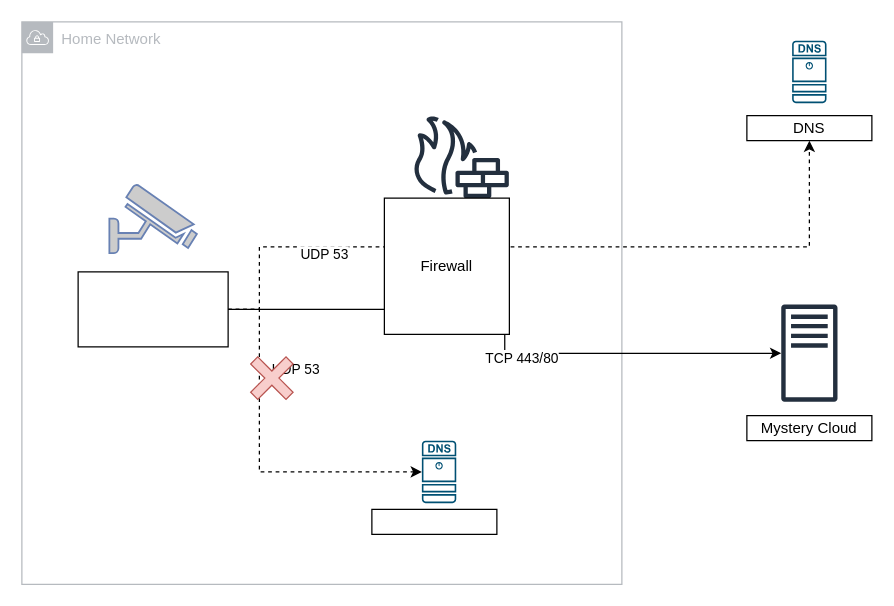
The diagram is 894 pixels wide and 606 high, and some of its shapes have lost their labels. The centre of each missing label's shape, as x and y in pixels:
IoT Botnet Wonderland 4000: (152,309)
PiHole: (434,521)
